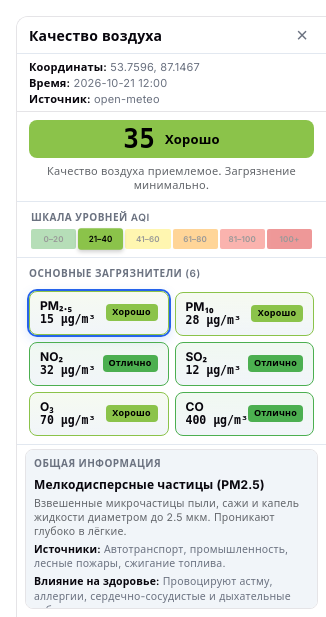
Test: RightAirPanel Pinning (Фиксация и расфиксация загрязнителей по клику) › 1. По умолчанию (без фиксации) наведение курсора (hover) переключает отображаемое вещество
Expected: the text "Мелкодисперсные частицы (PM2.5)" is shown, left=34, top=477, right=265, bottom=492
Hover over the button with aria-label "NO₂: 32, норма: Отлично" at [99, 364], box left=29, top=342, right=168, bottom=386
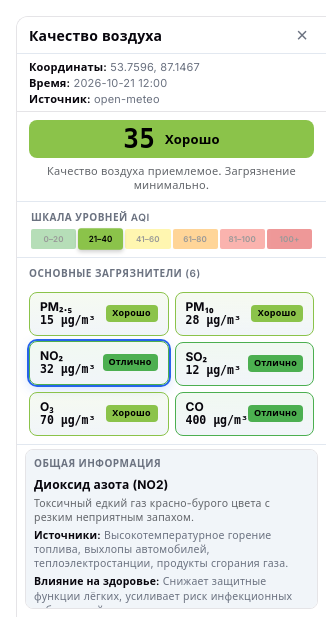
Expected: the text "Диоксид азота (NO2)" is shown, left=34, top=477, right=168, bottom=492
Hover over the button with aria-label "O₃: 70, норма: Хорошо" at [99, 414], box left=29, top=392, right=168, bottom=436
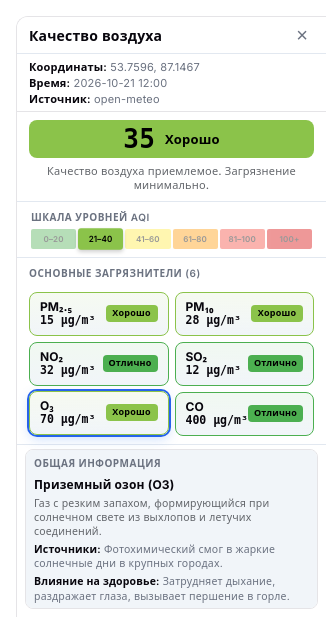
Expected: the text "Приземный озон (O3)" is shown, left=34, top=477, right=174, bottom=492
